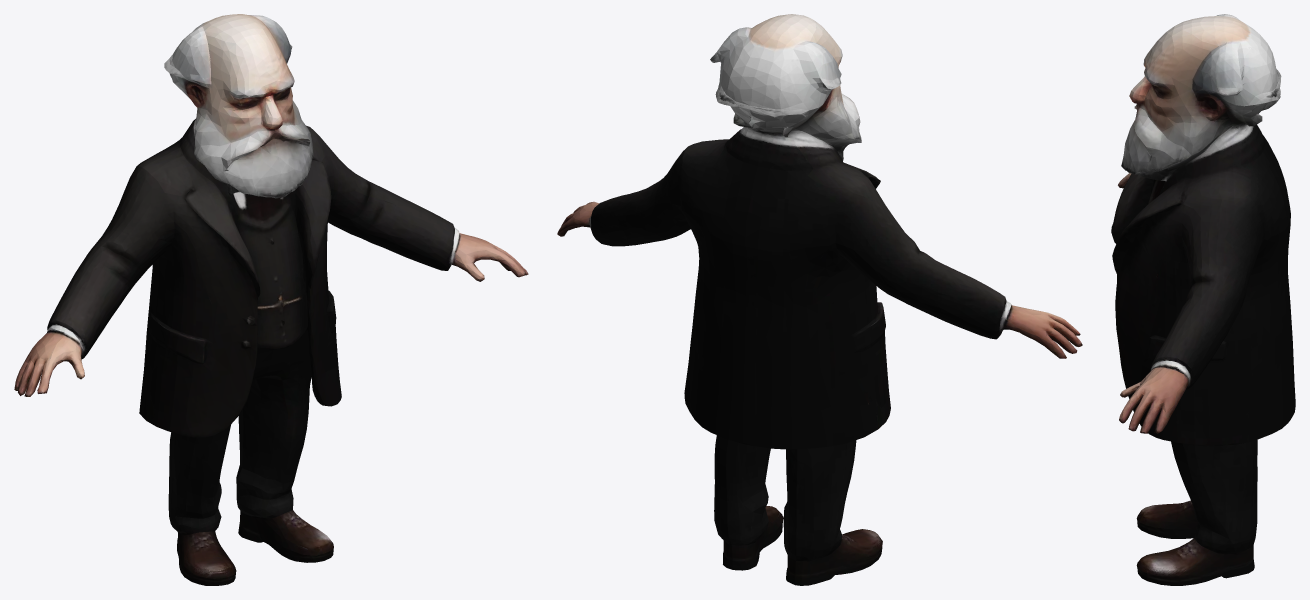
File: compressed_1743504920233_sample(1).glb
The picture shows the model from 3 angles, left to right: view 1: azimuth 30°, elevation 25°; view 2: azimuth 150°, elevation 25°; view 3: azimuth 270°, elevation 25°; orthographic projection. The views are drawn at different scales.
Parts seen in each view (by area): view 1: geometry_0; view 2: geometry_0; view 3: geometry_0.
Part boxes in pixels (x1,y1,x2,y2): geometry_0: [14, 14, 528, 585]; geometry_0: [557, 14, 1082, 585]; geometry_0: [1111, 14, 1295, 585].
Size of the model in its own units: 0.9981 by 1 by 0.3151.
1 material, 1 textured.
